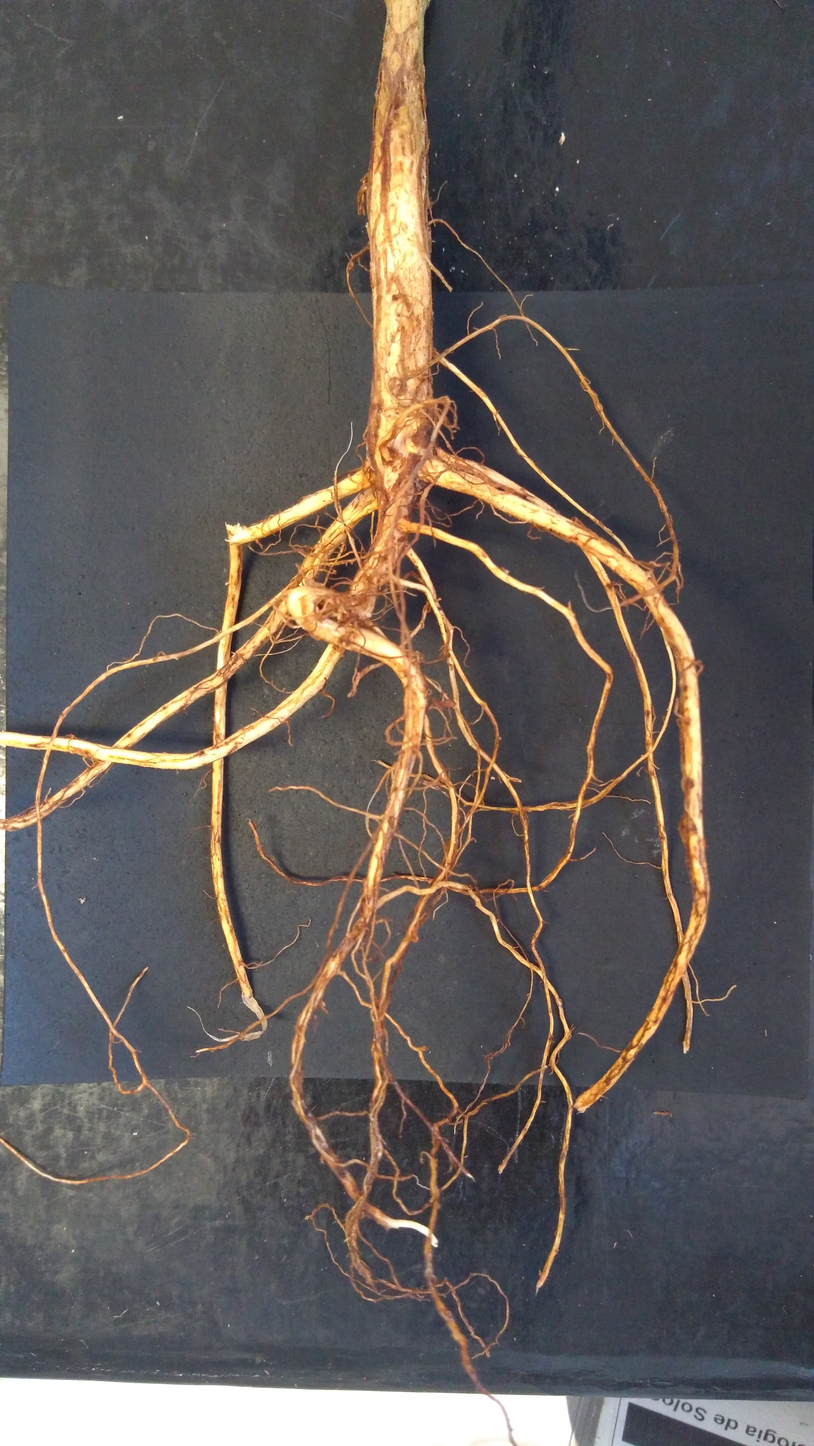nodule: (323, 591, 354, 624), (380, 445, 394, 463), (441, 698, 456, 708), (360, 179, 367, 192), (347, 261, 354, 271), (419, 1045, 429, 1052)
